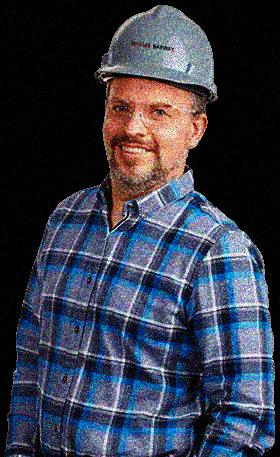helmet: (95, 6, 220, 187)
